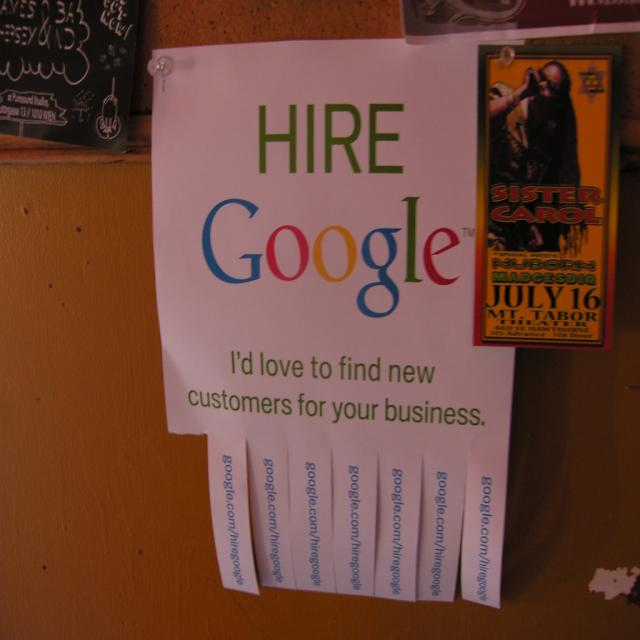google: (198, 191, 467, 323)
